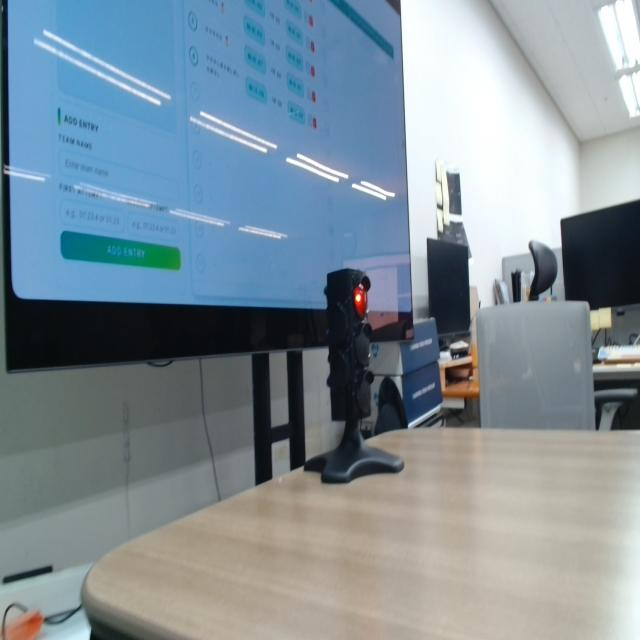red_light: (354, 285, 367, 318)
